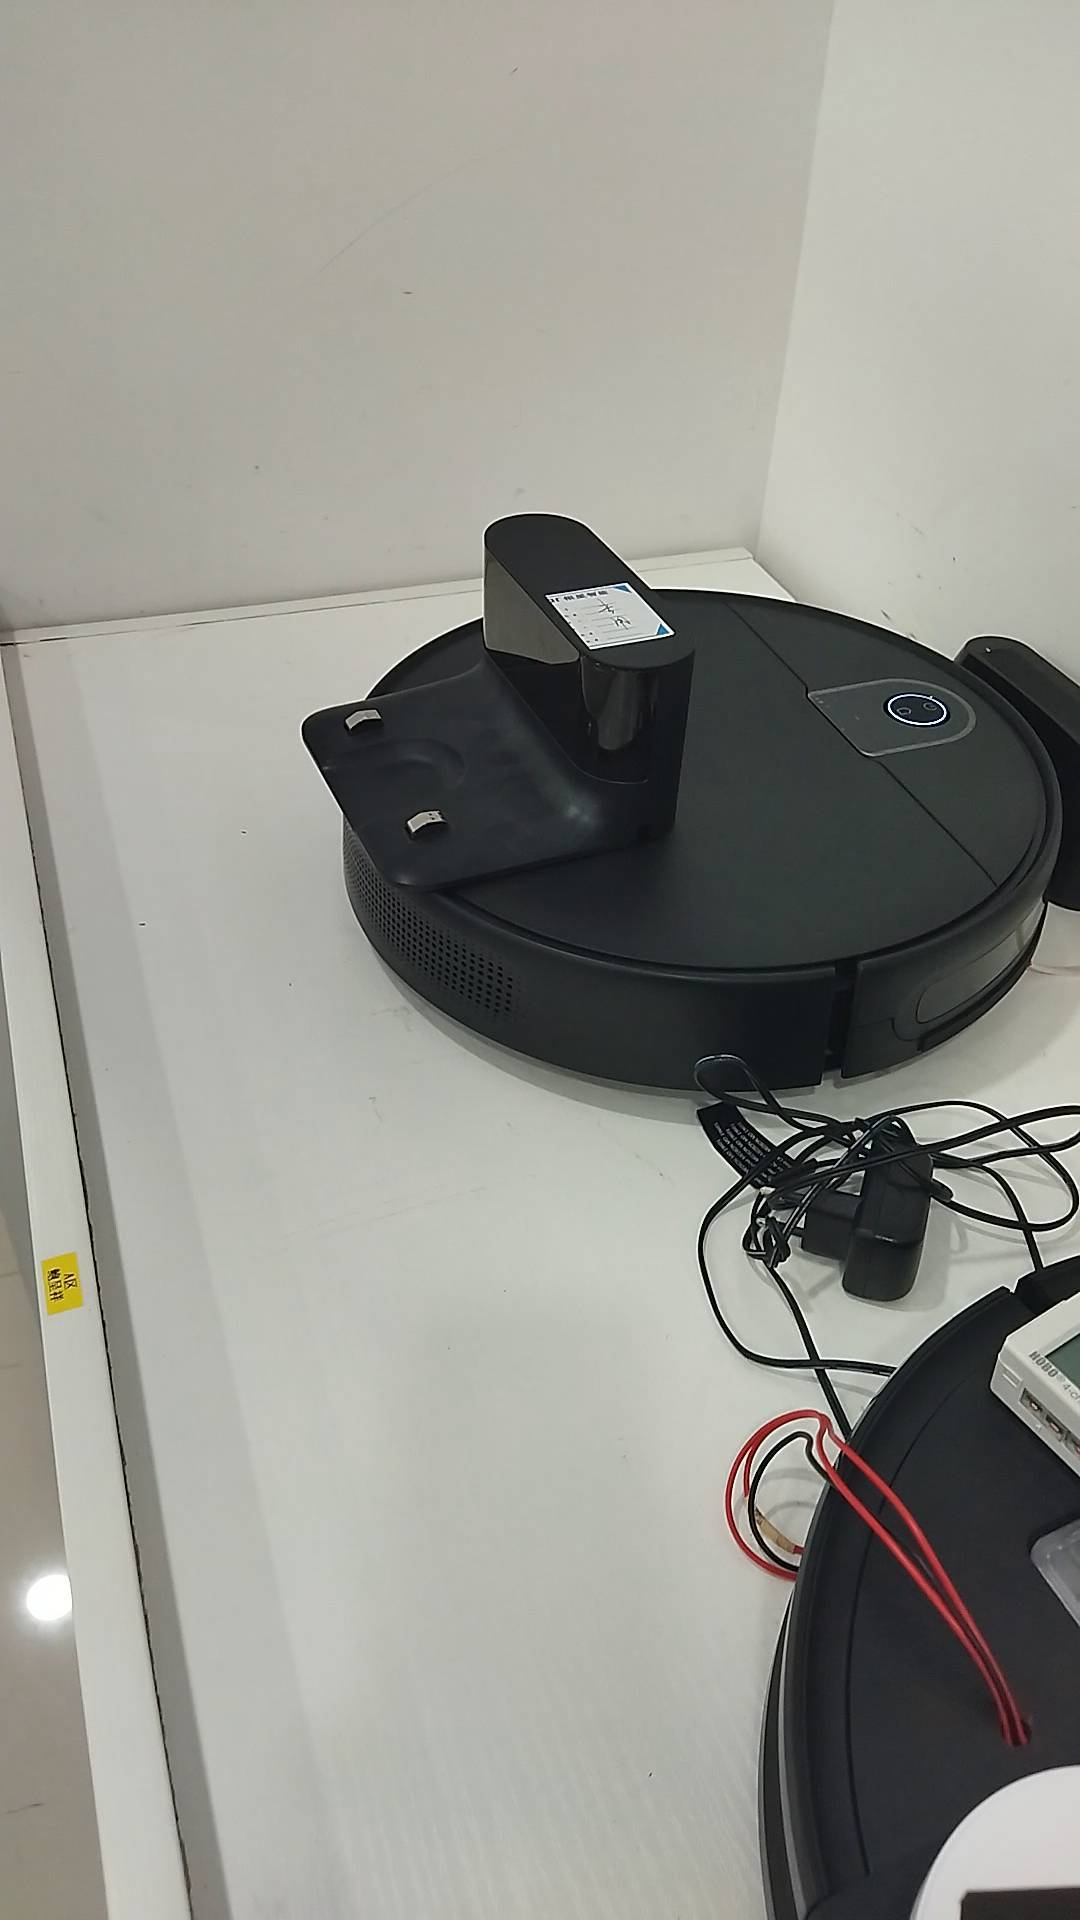recharge seat: (302, 512, 700, 894)
